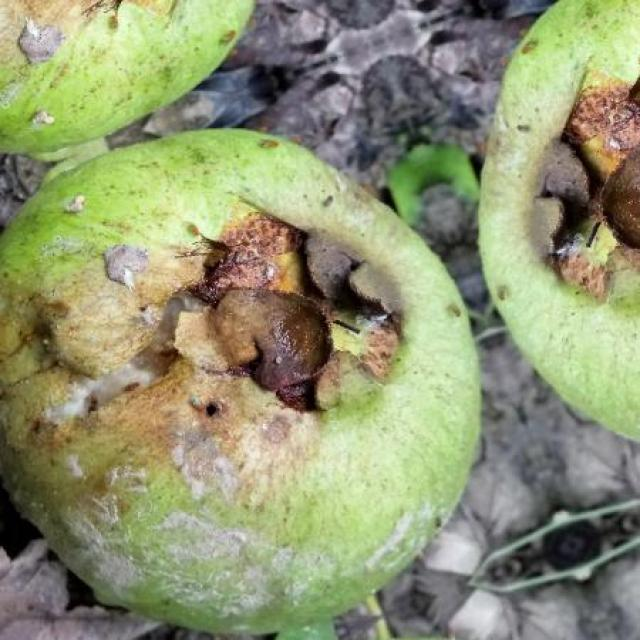Styler and Root: (0, 130, 478, 632), (0, 0, 252, 158)
